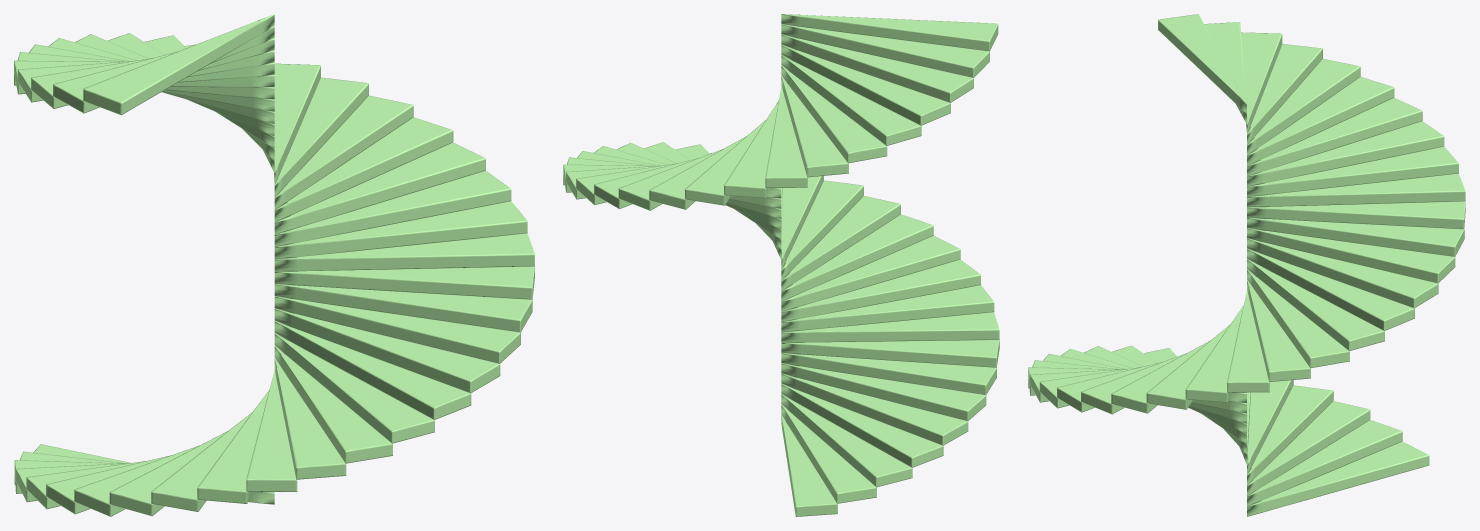
File: stairs_optimized.glb
3 views of the same model, side by side, from view 1: azimuth 30°, elevation 25°; view 2: azimuth 150°, elevation 25°; view 3: azimuth 270°, elevation 25° (orthographic). The views are drawn at different scales.
Parts seen in each view (by area): view 1: Circle; view 2: Circle; view 3: Circle.
Part boxes in pixels (<box>): Circle: <box>14,14,534,516</box>; Circle: <box>563,14,999,516</box>; Circle: <box>1028,14,1465,516</box>.
Size of what is drawn, in the model's own units: 0.2429 by 0.253 by 0.243.
